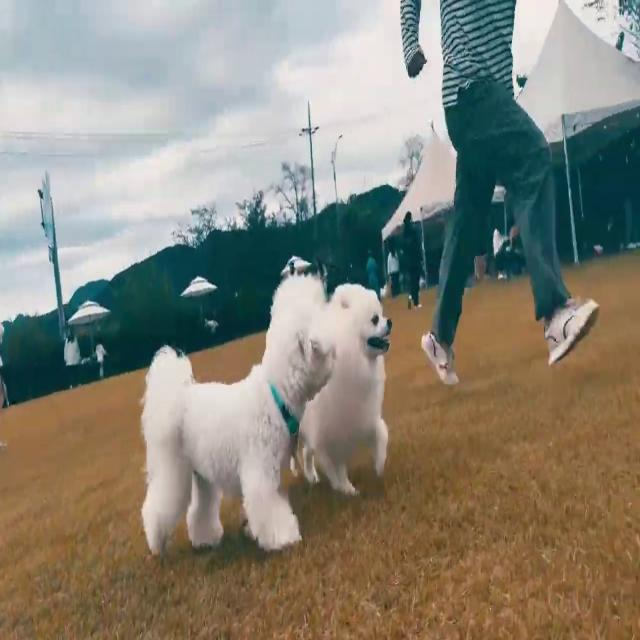Unleashed_Dog: (141, 68, 493, 559), (290, 68, 493, 498)
